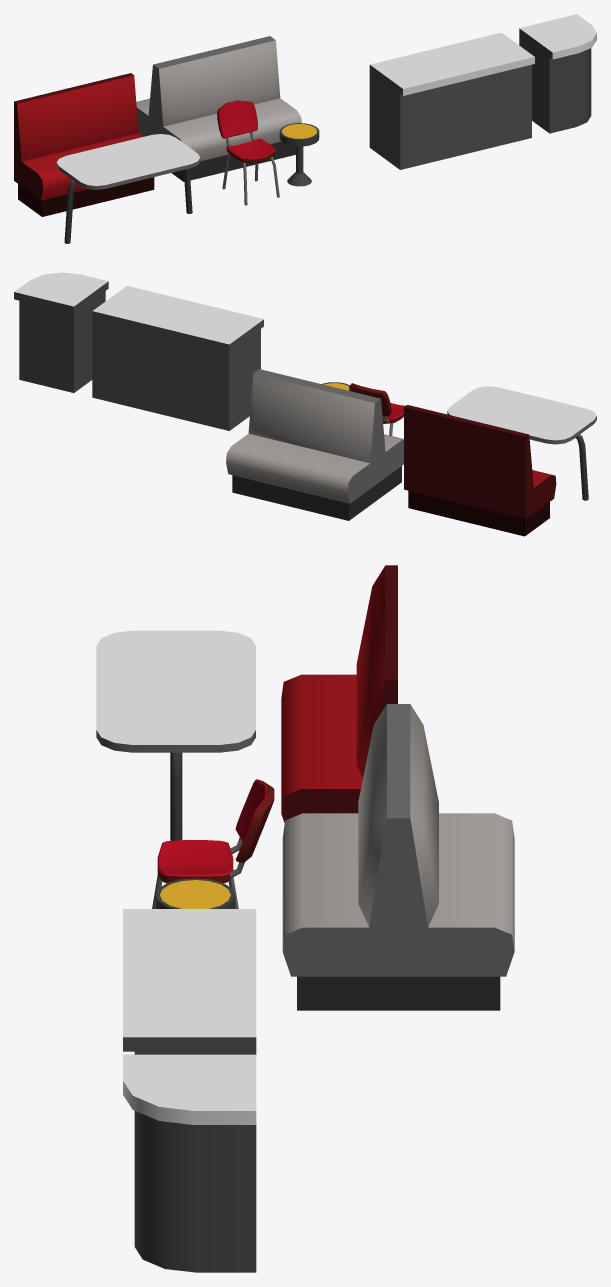
The model's file is Furniture01.fbx.
The picture shows the model from 3 angles, top to bottom: view 1: azimuth 30°, elevation 25°; view 2: azimuth 150°, elevation 25°; view 3: azimuth 270°, elevation 25°; orthographic projection. The views are drawn at different scales.
Visible parts, largest first — view 1: Bar1, Sofa02, Sofa01, Bar2, Table01, Chair01, Stool01; view 2: Bar1, Sofa02, Sofa01, Bar2, Table01, Chair01; view 3: Sofa02, Bar2, Table01, Bar1, Sofa01, Chair01, Stool01.
Boxes of the visible parts, x1,y1,x2,y2 form: Bar1: [369, 32, 534, 169]; Sofa02: [136, 36, 301, 181]; Sofa01: [14, 73, 154, 216]; Bar2: [519, 14, 596, 133]; Table01: [56, 134, 200, 243]; Chair01: [217, 100, 279, 205]; Stool01: [279, 123, 319, 186]; Bar1: [92, 286, 263, 430]; Sofa02: [226, 369, 403, 520]; Sofa01: [404, 405, 556, 536]; Bar2: [14, 272, 108, 392]; Table01: [447, 386, 596, 500]; Chair01: [349, 383, 405, 435]; Sofa02: [282, 704, 514, 1010]; Bar2: [123, 1054, 256, 1272]; Table01: [96, 630, 255, 840]; Bar1: [123, 909, 256, 1054]; Sofa01: [281, 565, 397, 822]; Chair01: [152, 779, 274, 908]; Stool01: [155, 878, 235, 908].
Size of the model in its own units: 807 by 145 by 275.
